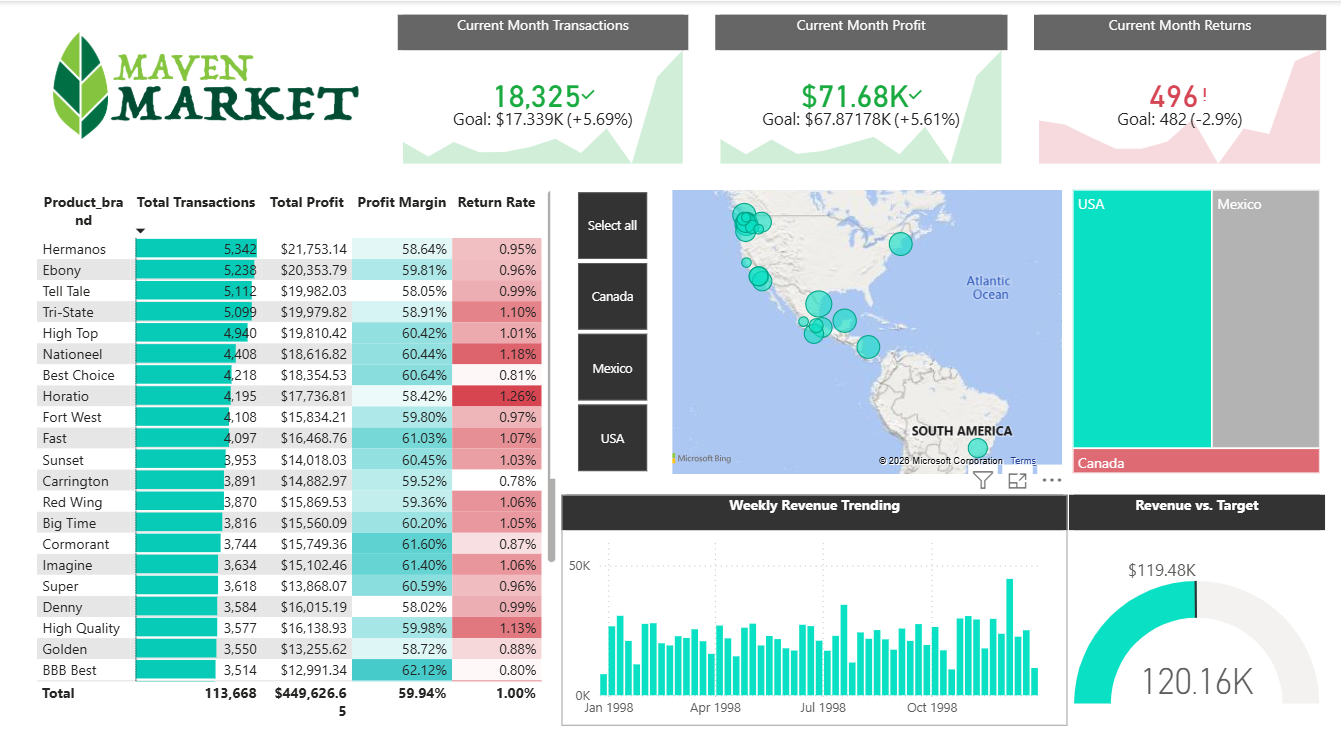

This screenshot's page, from the dashboard's own definition file:
{"tool":"powerbi","page":{"name":"Topline Performance","canvas":[1280,720],"ordinal":0},"visuals":[{"type":"image","box":[43.1,13.2,304.4,134.2],"z":0},{"type":"pivotTable","fields":{"Rows":["Products.product_brand"],"Values":["Transaction_Data.Total Transactions","Transaction_Data.Total Profit","Transaction_Data.Profit Margin","Transaction_Data.Return Rate"]},"box":[31.2,175,492.6,514.2],"z":1000},{"type":"kpi","title":"Current Month Transactions","fields":{"Goal":["Transaction_Data.Last Month Transactions"],"Indicator":["Transaction_Data.Total Transactions"],"TrendLine":["Calendar.Start of Month"]},"box":[378.3,12.8,275.9,146.5],"z":2000},{"type":"kpi","title":"Current Month Profit","fields":{"Goal":["Transaction_Data.Last Month Profit"],"Indicator":["Transaction_Data.Total Profit"],"TrendLine":["Calendar.Start of Month"]},"box":[679.8,12.8,277.3,146.5],"z":2001},{"type":"kpi","title":"Current Month Returns","fields":{"Goal":["Return_Data.Last Month Returns"],"Indicator":["Return_Data.Total Returns"],"TrendLine":["Calendar.Start of Month"]},"box":[982.8,12.8,277.3,146.5],"z":2002},{"type":"map","fields":{"Category":["Stores.store_city"],"Size":["Transaction_Data.Total Transactions"]},"box":[622,175,393.1,279.3],"z":2003},{"type":"slicer","fields":{"Values":["Stores.store_country"]},"box":[523.7,175,116.3,279.3],"z":2004},{"type":"treemap","fields":{"Group":["Stores.store_country","Stores.store_state","Stores.store_city"],"Values":["Transaction_Data.Total Transactions"]},"box":[1015.1,175,244.5,279.3],"z":2005},{"type":"columnChart","title":"Weekly Revenue Trending","fields":{"Category":["Calendar.Start Of Week"],"Y":["Transaction_Data.Total Revenue"]},"box":[534.5,468.6,480.7,220.4],"z":2006},{"type":"gauge","title":" Revenue vs. Target","fields":{"TargetValue":["Transaction_Data.Revenue Target"],"Y":["Transaction_Data.Total Revenue"]},"box":[1016,469,243,220],"z":2007}]}

Visuals, with their boxes in screenshot pixels (x1, y1, x2, y2), scaled from the page's 1280x720 canvas onto the 1341x746 screenshot:
image: (45, 14, 364, 153)
pivotTable - Products.product_brand x Transaction_Data.Total Transactions: (33, 181, 549, 714)
"Current Month Transactions" kpi: (396, 13, 685, 165)
"Current Month Profit" kpi: (712, 13, 1003, 165)
"Current Month Returns" kpi: (1030, 13, 1320, 165)
map - Stores.store_city x Transaction_Data.Total Transactions: (652, 181, 1063, 471)
slicer - Stores.store_country: (549, 181, 670, 471)
treemap - Stores.store_country x Stores.store_state: (1063, 181, 1320, 471)
"Weekly Revenue Trending" columnChart: (560, 486, 1064, 714)
" Revenue vs. Target" gauge: (1064, 486, 1319, 714)
